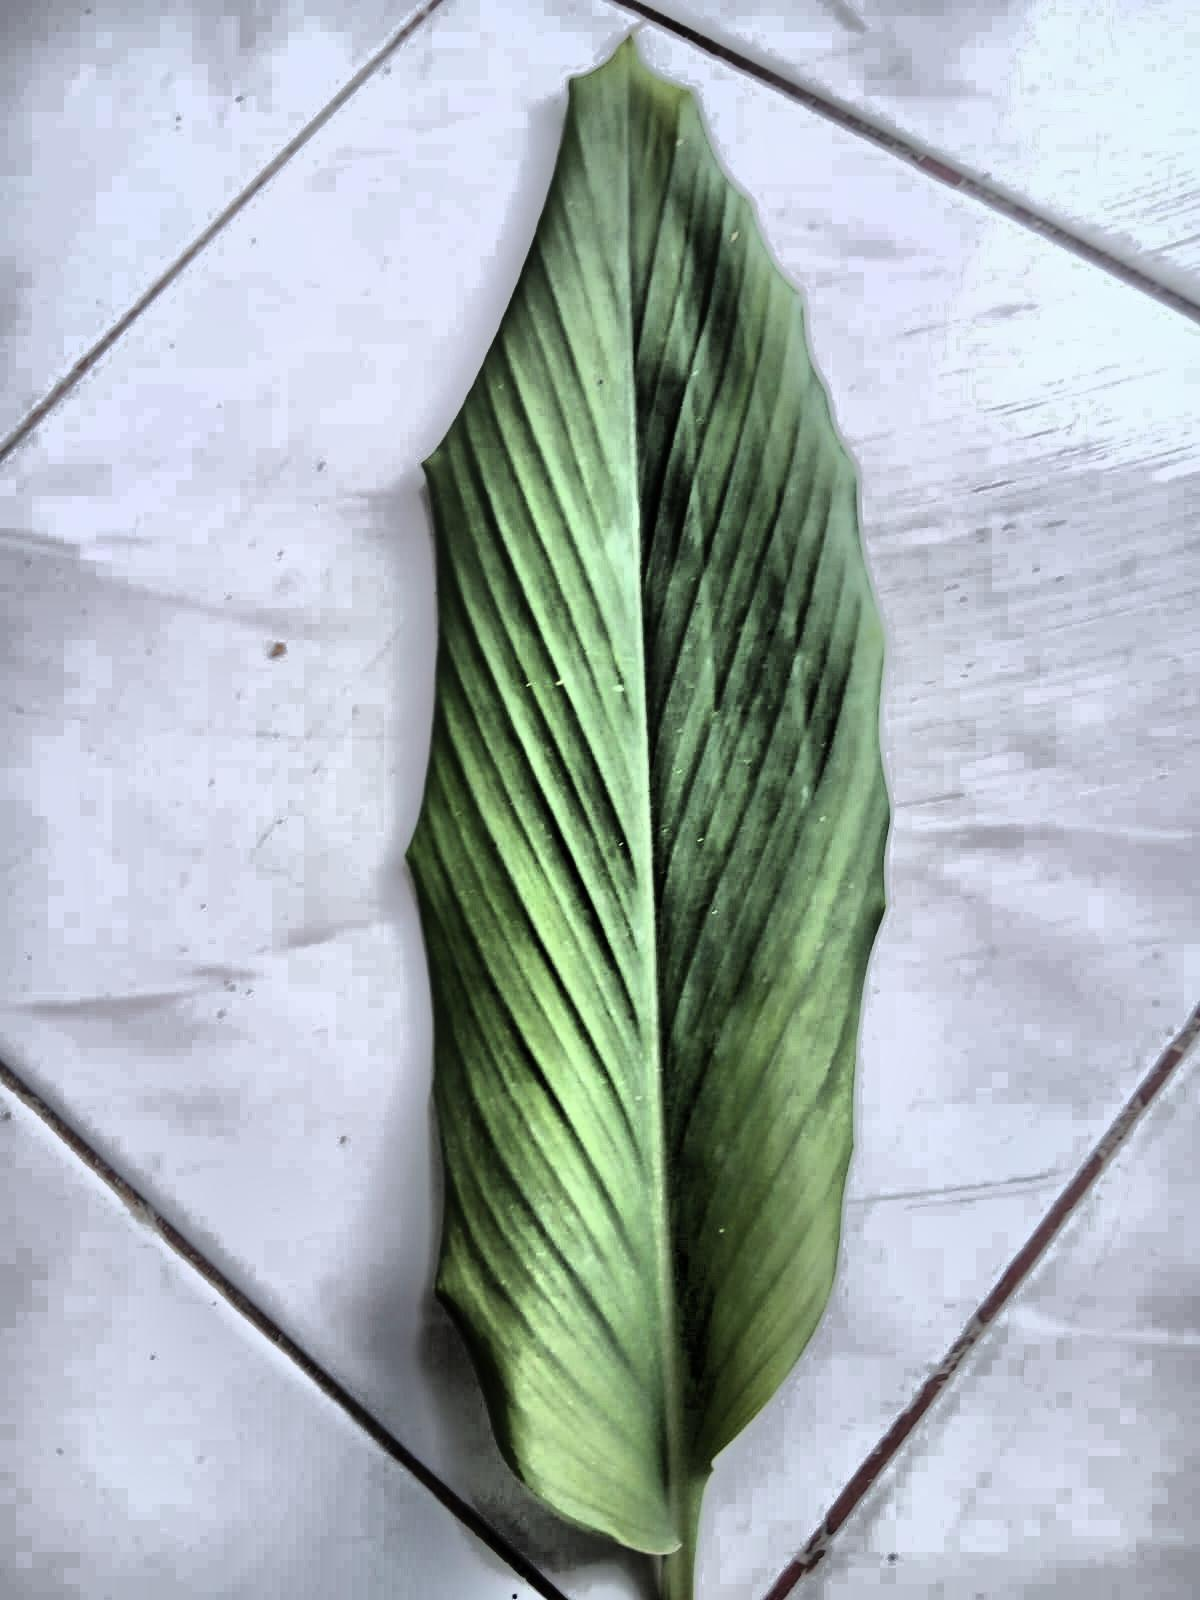daun kunyit: (408, 39, 887, 1599)
